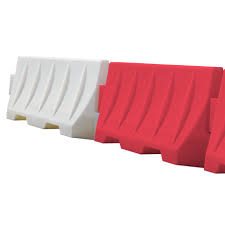barrier: (92, 63, 224, 166), (4, 56, 110, 139)
